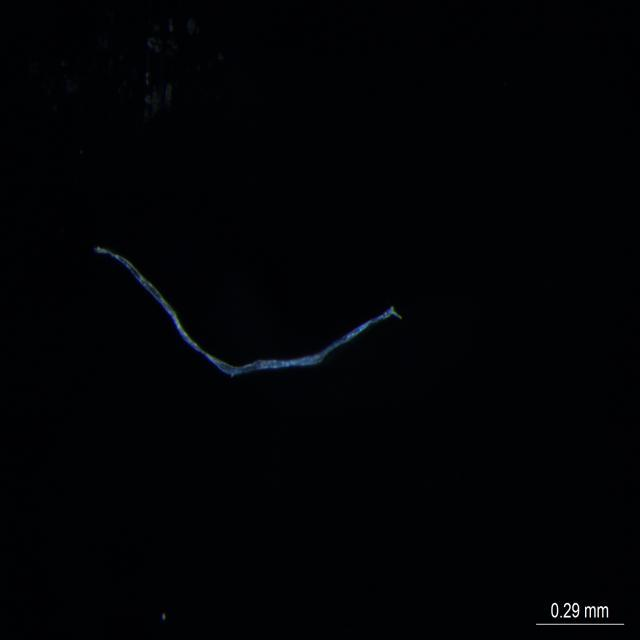fibers: (74, 246, 404, 408)
